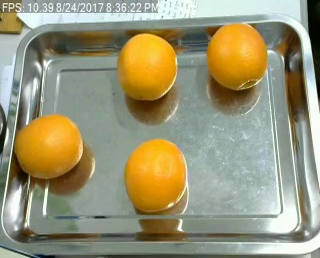Orange: (125, 138, 187, 213), (13, 113, 82, 177), (117, 31, 177, 102), (206, 22, 268, 89)
